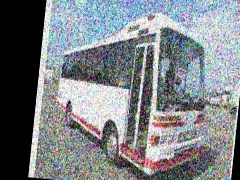bus: (51, 4, 217, 180)
